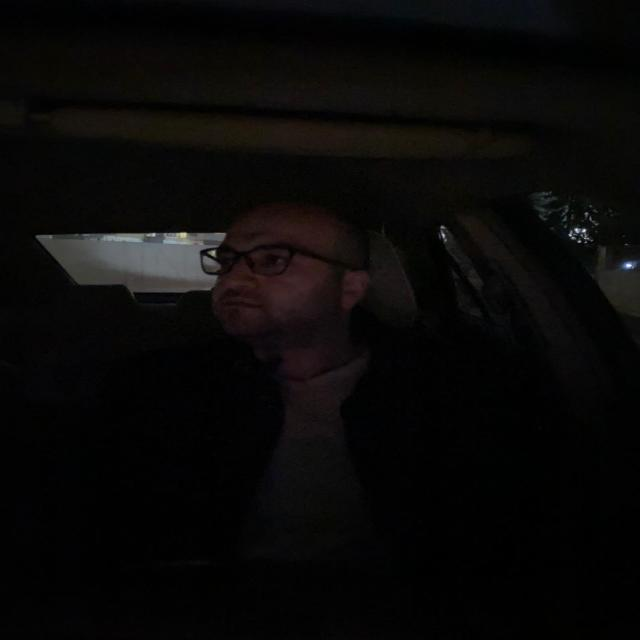LeftRight: (191, 182, 401, 388)
